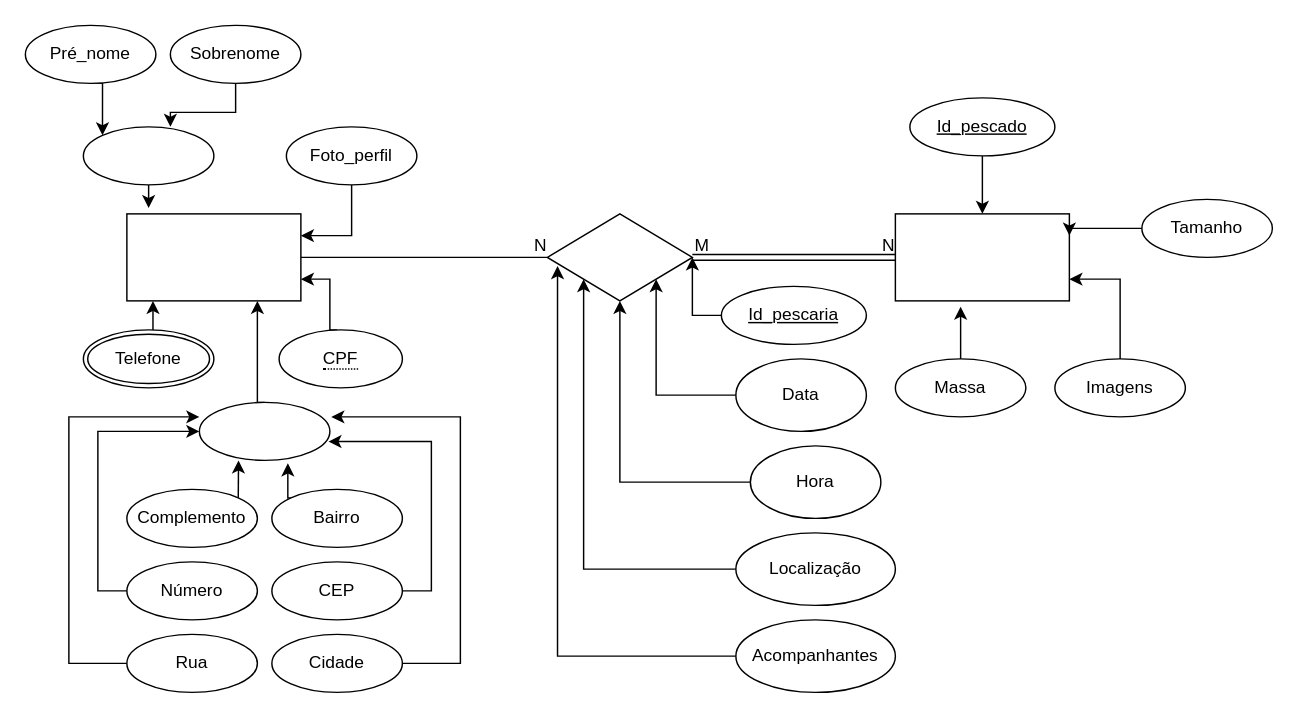
Image size: 1298x718. Some labels were removed from this diagram. The shapes that lost their labels are listed below. From the top down, each one's centre as x and y in pixels, then its label:
the point at 148,155: Nome
the point at 213,256: Pescador
the point at 619,256: Pescaria
the point at 981,256: Pescado
the point at 264,430: Endereço
